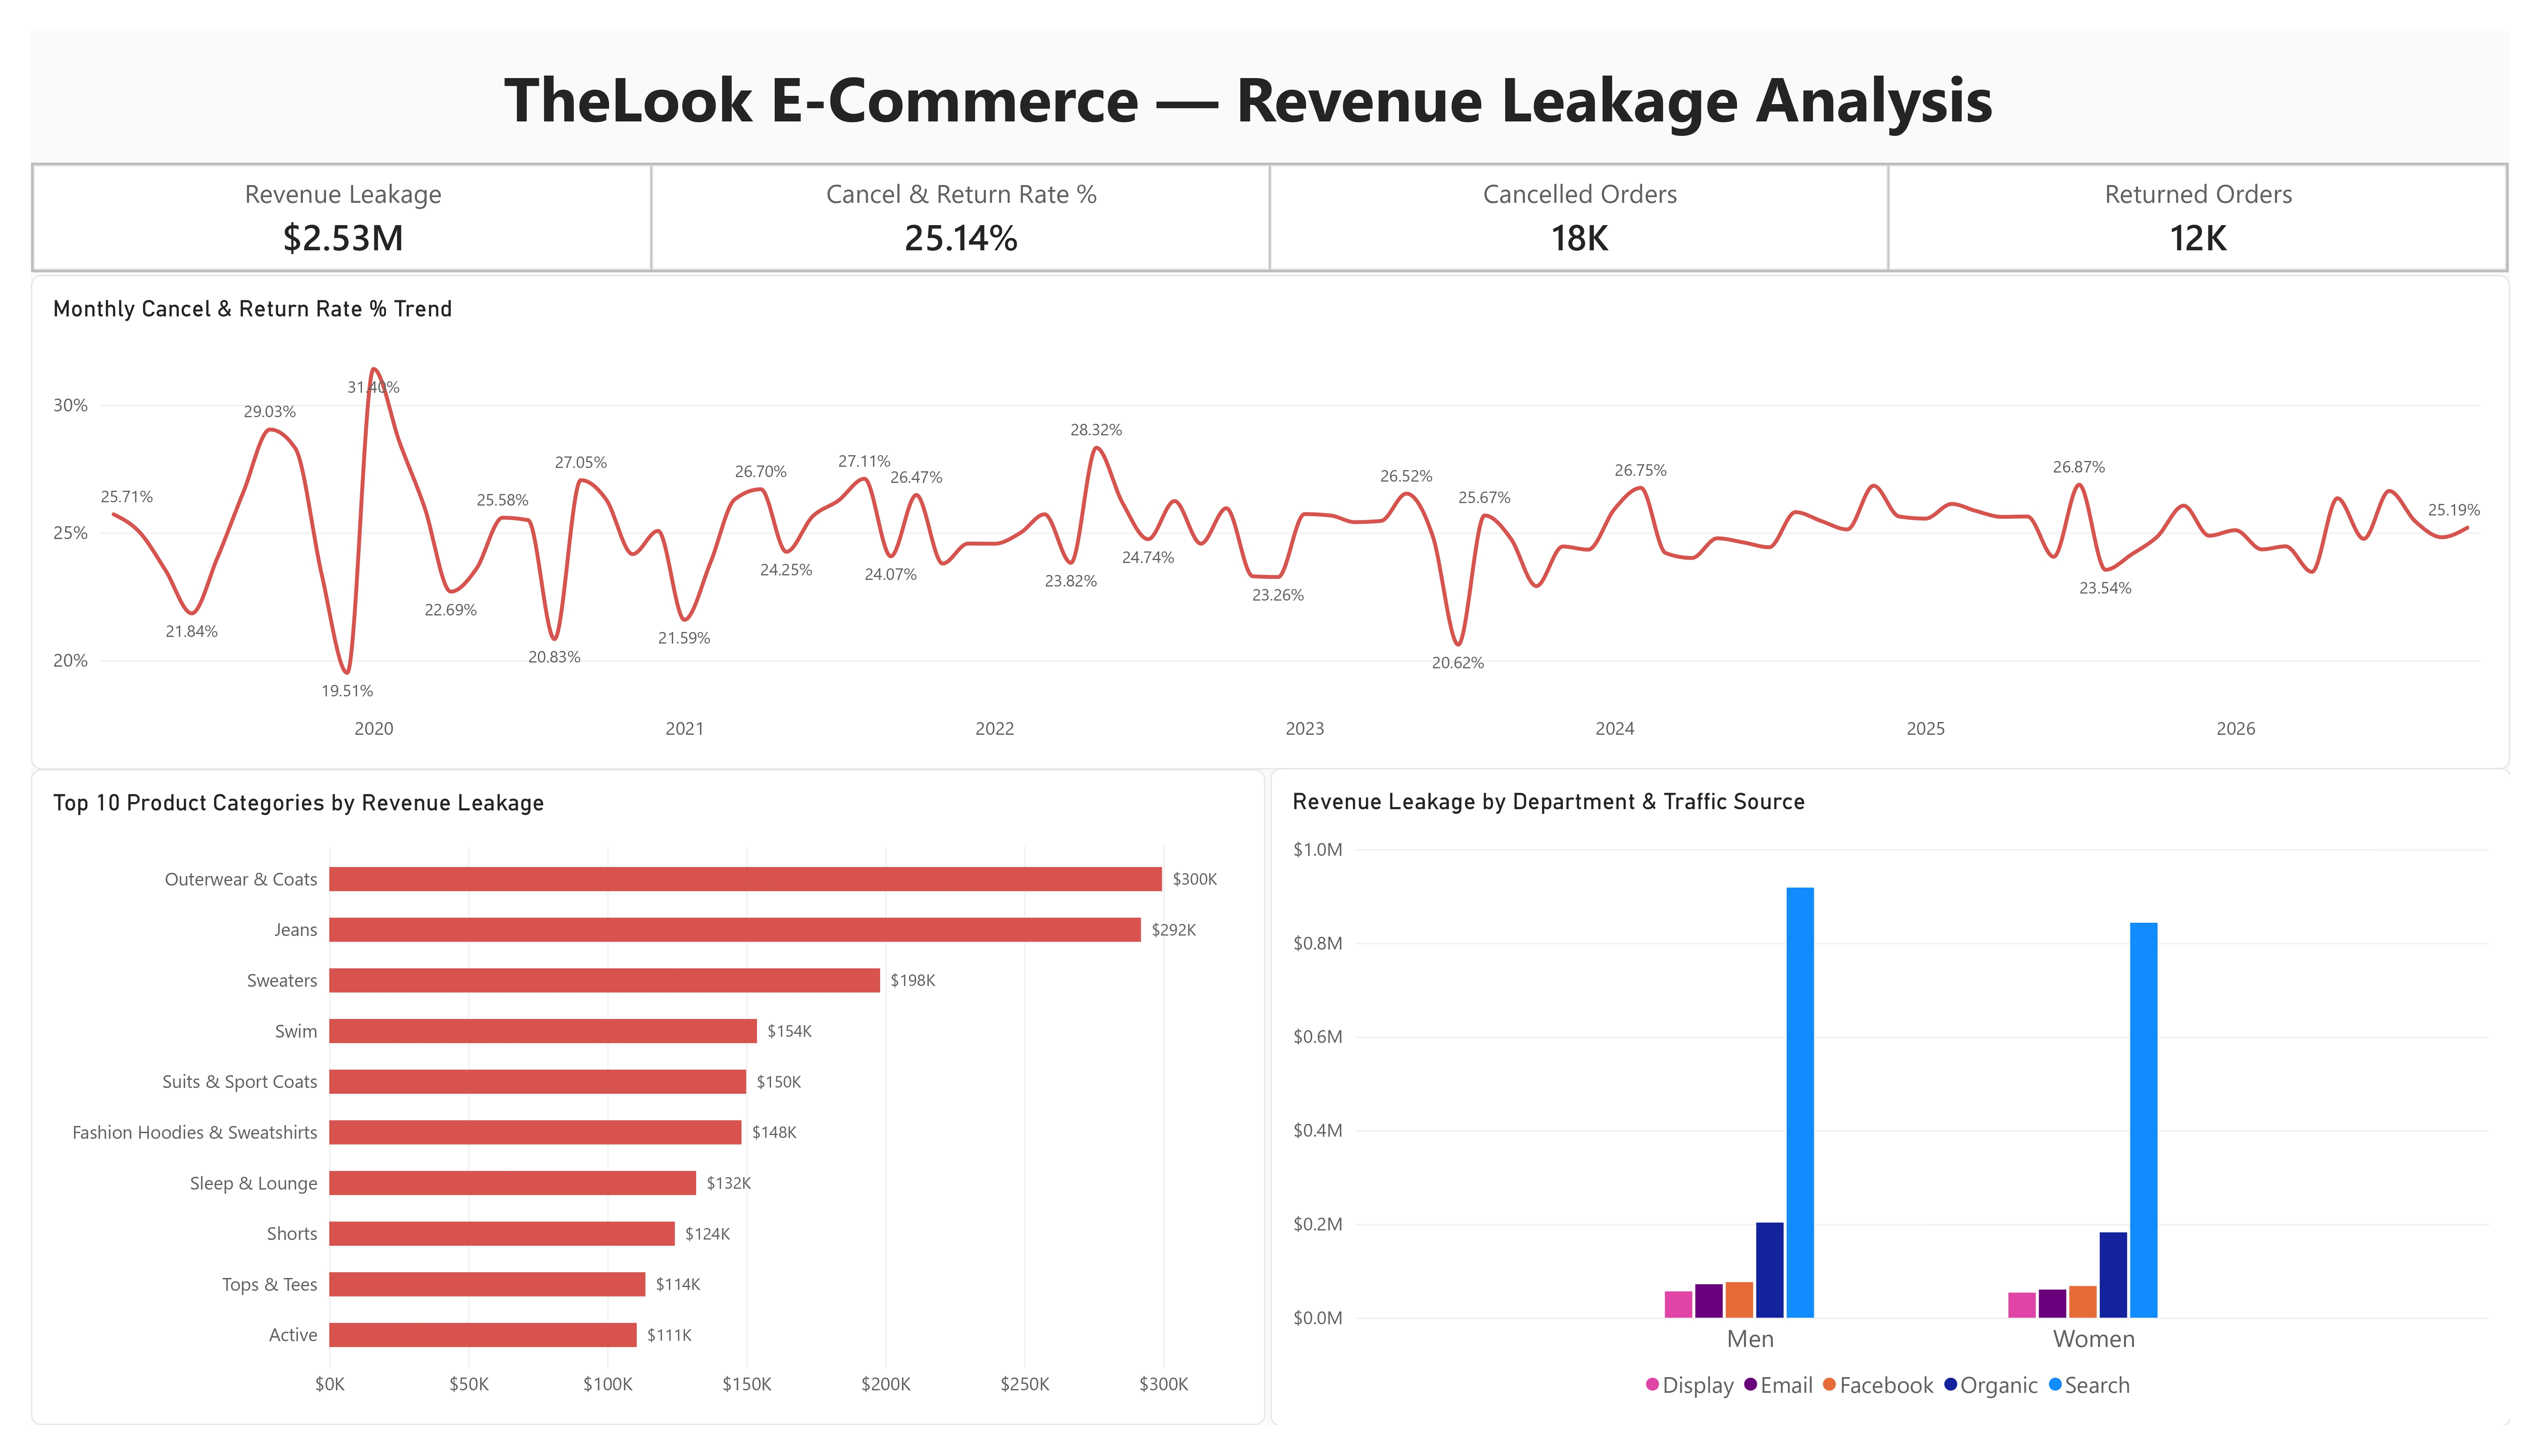

What the dashboard file says about the page in this screenshot:
{"tool":"powerbi","page":{"name":"Revenue Leakage Analysis","canvas":[1920,1080],"ordinal":2},"visuals":[{"type":"cardVisual","fields":{"Data":["_Measures.Revenue Leakage","_Measures.Cancel & Return Rate %","_Measures.Cancelled Orders","_Measures.Returned Orders"]},"box":[0,101.8,1920.8,85.4],"z":0},{"type":"lineChart","title":"Monthly Cancel & Return Rate % Trend","fields":{"Category":["Dim_Date.Month Start"],"Y":["_Measures.Cancel & Return Rate %"]},"box":[0,188.6,1920.4,382.9],"z":1000},{"type":"clusteredBarChart","title":"Top 10 Product Categories by Revenue Leakage","fields":{"Category":["dim_products.category"],"Y":["_Measures.Revenue Leakage"]},"box":[0,571.5,956.4,508.7],"z":2000},{"type":"textbox","box":[366,18,1190,70],"z":3000},{"type":"clusteredColumnChart","title":"Revenue Leakage by Department & Traffic Source","fields":{"Category":["dim_products.department"],"Series":["dim_customers_rfm.traffic_source"],"Y":["_Measures.Revenue Leakage"]},"box":[960.3,571.4,960.3,509.5],"z":4000}]}

Visuals, with their boxes on the page's 1920x1080 design canvas (x1, y1, x2, y2). These are canvas units, not pixel positions in the 2541x1456 screenshot, which may show the page scaled, cropped or inside an application window:
cardVisual - _Measures.Revenue Leakage x _Measures.Cancel & Return Rate %: bbox=(0, 102, 1921, 187)
"Monthly Cancel & Return Rate % Trend" lineChart: bbox=(0, 189, 1920, 572)
"Top 10 Product Categories by Revenue Leakage" clusteredBarChart: bbox=(0, 572, 956, 1080)
textbox: bbox=(366, 18, 1556, 88)
"Revenue Leakage by Department & Traffic Source" clusteredColumnChart: bbox=(960, 571, 1921, 1081)
